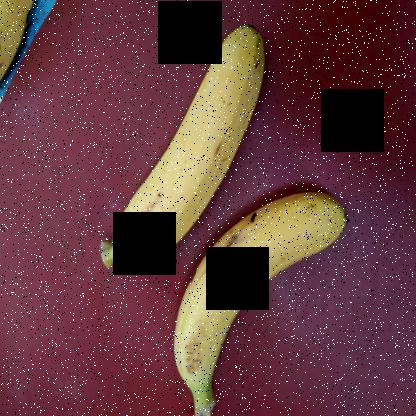freshripe: (111, 16, 268, 267)
ripe: (169, 189, 350, 415)
